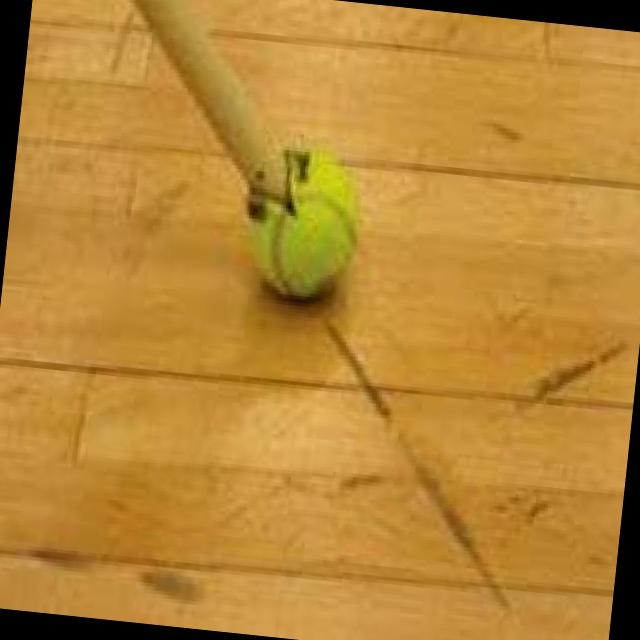Tennis Ball: (243, 137, 370, 304)
